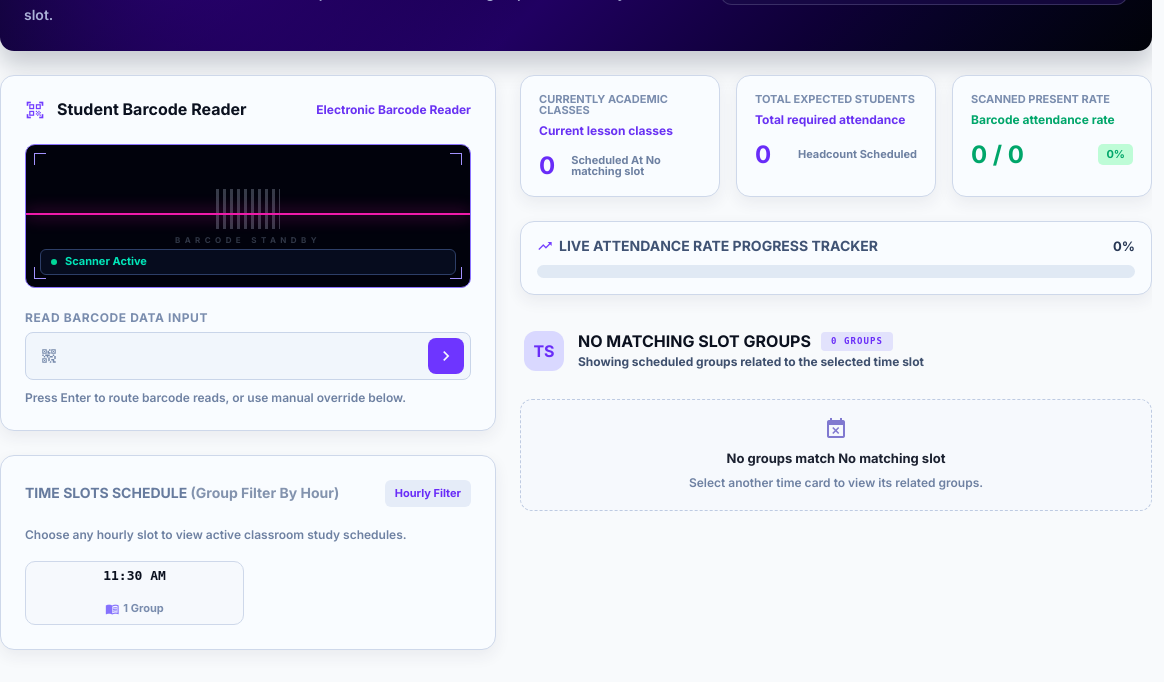
Test case: TenantAttendanceComponent › shows a selected group student count and required table headers
(page scrolled)
Click the button "11:30 AM 1 Group".
click(134, 593)  # box [25,561,244,625]
(page scrolled)
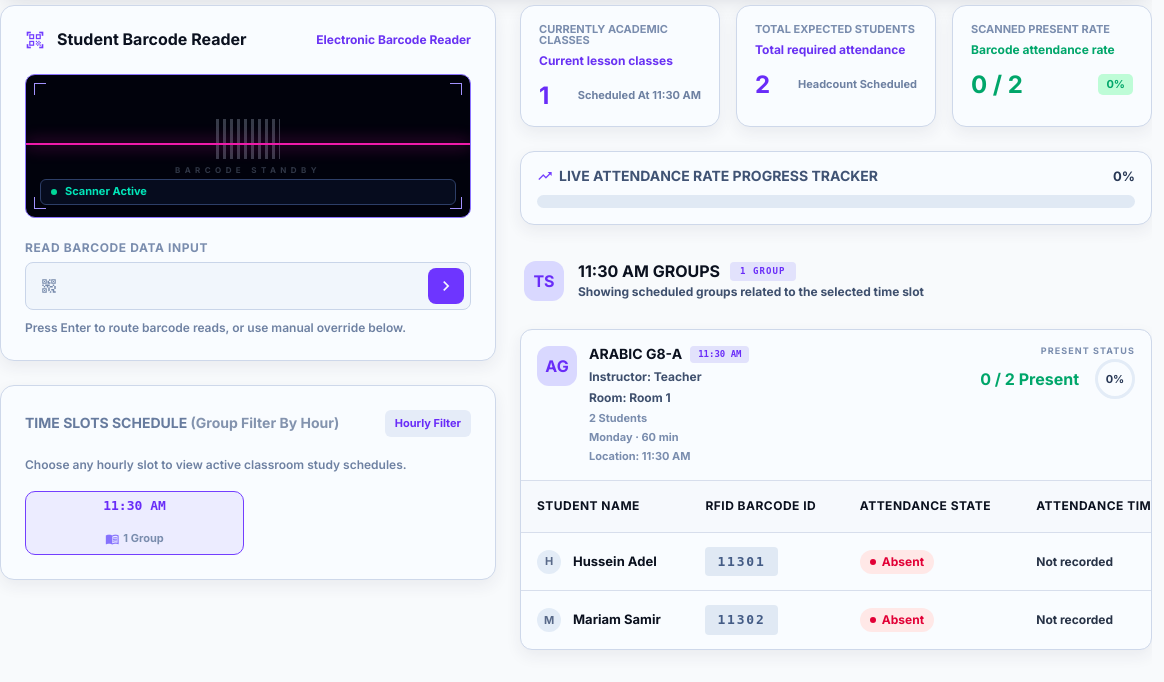
Now the element with class "selected-group-item" shows "2", box [589,411,647,425]
Now the element with class "selected-group-item" shows "Students", box [589,411,647,425]
Now the element with class "selected-group-item" shows "Student Name", box [537,498,640,513]
